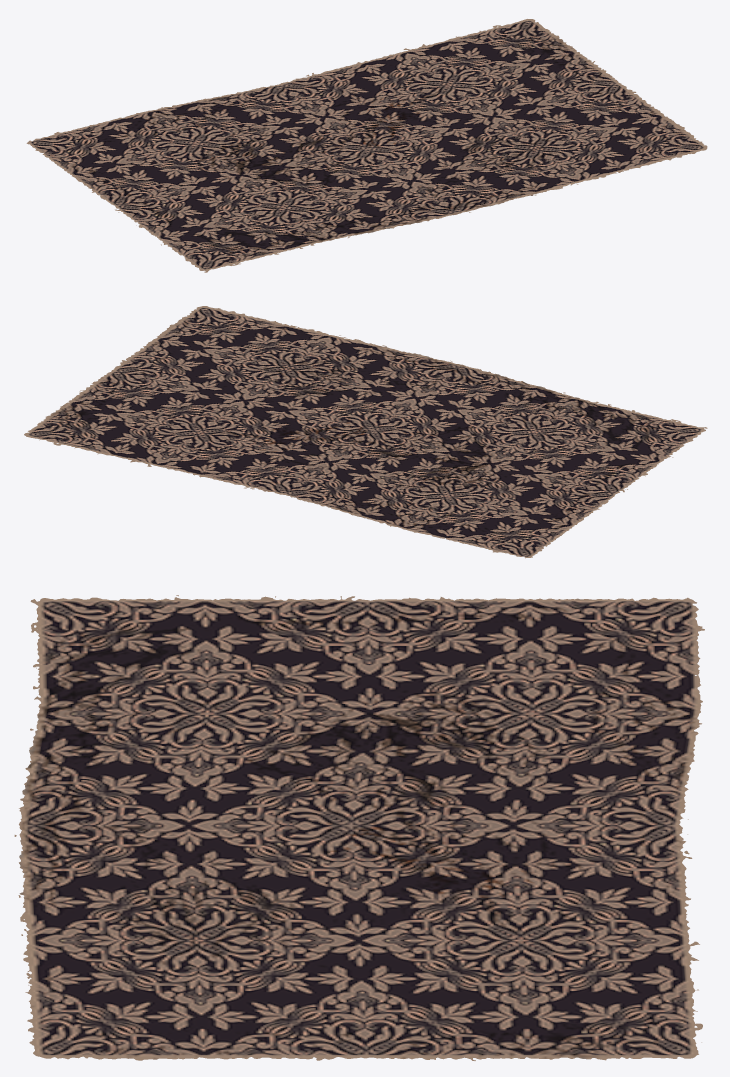
The model's file is Rug_1.fbx.
3 renders of one model, top to bottom at view 1: azimuth 30°, elevation 25°; view 2: azimuth 150°, elevation 25°; view 3: azimuth 270°, elevation 25°, orthographic. The views are drawn at different scales.
Visible parts, largest first — view 1: Rug_1; view 2: Rug_1; view 3: Rug_1.
Boxes of the visible parts, x1,y1,x2,y2 form: Rug_1: (26, 19, 707, 272); Rug_1: (24, 306, 707, 558); Rug_1: (14, 595, 704, 1060).
Bounding box in the file's own units: 334 × 3.43e-05 × 211.
